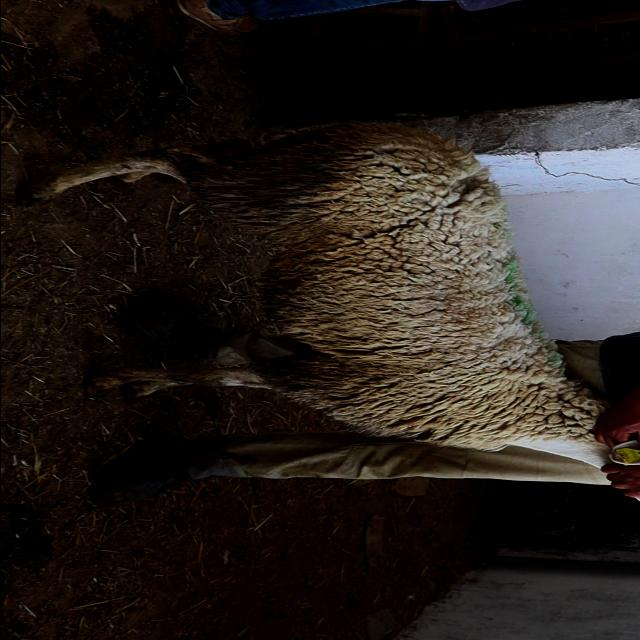Score_3: (21, 121, 615, 467)
